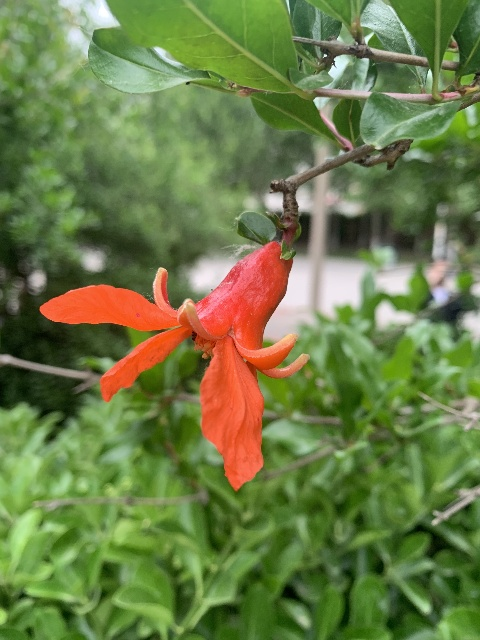flower: (43, 238, 307, 490)
